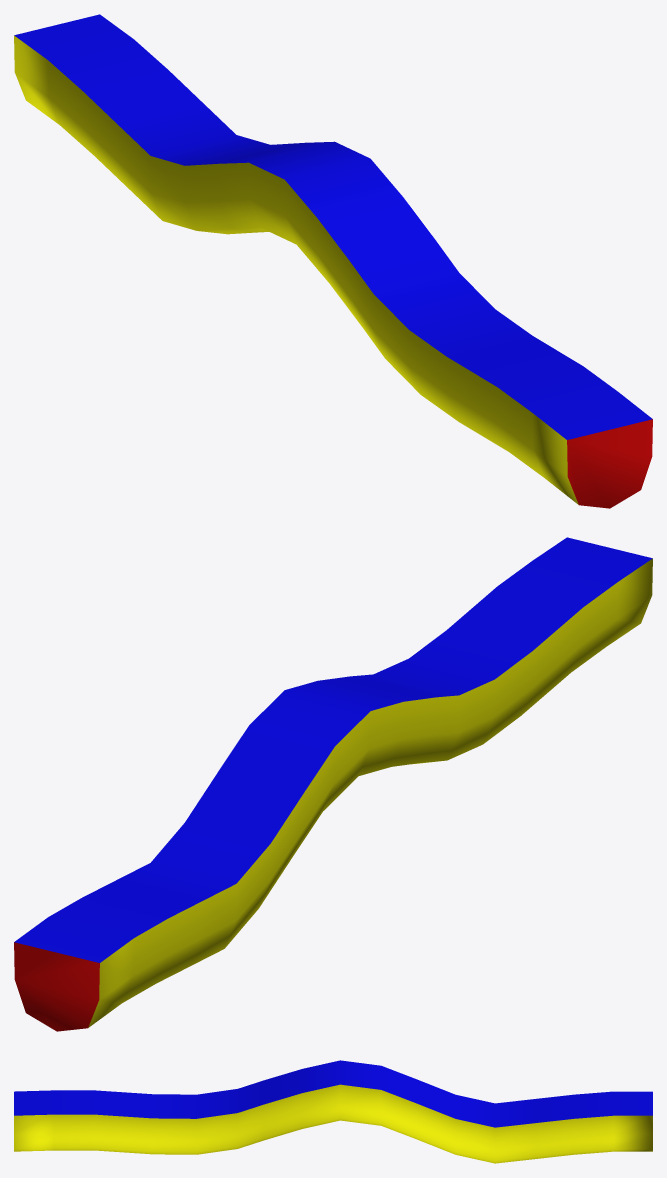
3 views of the same model, one above another, from view 1: azimuth 30°, elevation 25°; view 2: azimuth 150°, elevation 25°; view 3: azimuth 270°, elevation 25° (orthographic). The views are drawn at different scales.
Visible parts, largest first — view 1: polySurface118; view 2: polySurface118; view 3: polySurface118.
Boxes of the visible parts, x1,y1,x2,y2 form: polySurface118: (14,14,652,508); polySurface118: (14,537,652,1031); polySurface118: (14,1060,652,1163).
Bounding box in the file's own units: 23.58 × 40.23 × 263.
